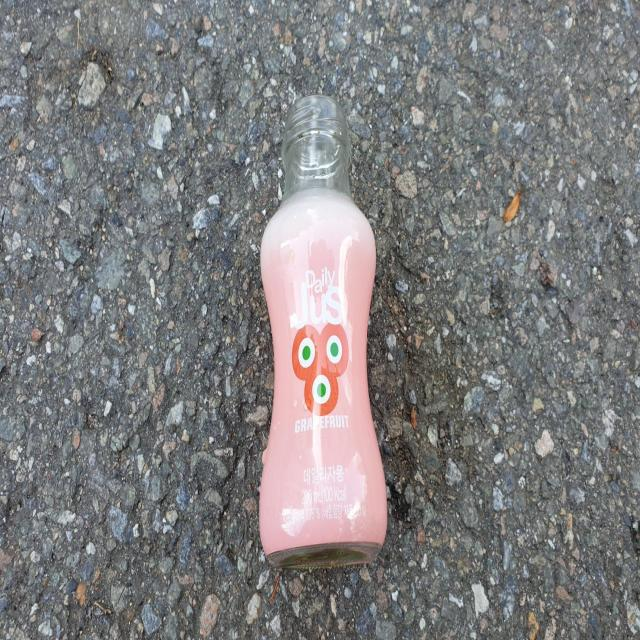glass: (259, 95, 387, 567)
